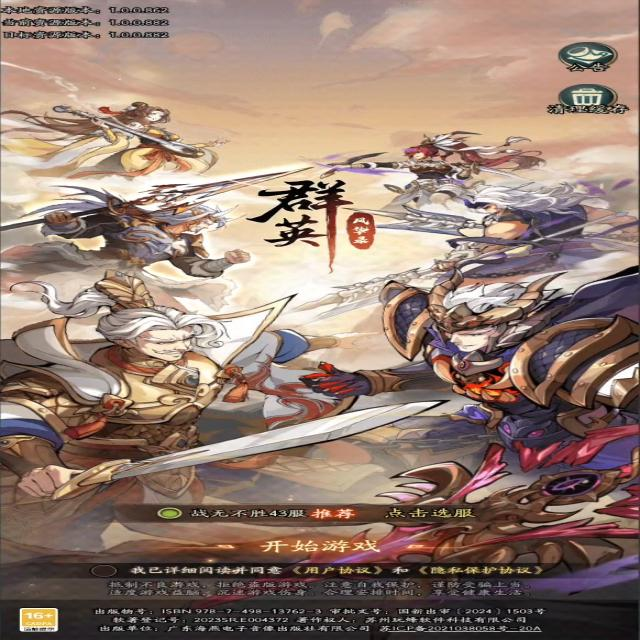operation-enter: (255, 535, 383, 555)
system-cleanUpCache: (552, 84, 632, 116)
system-notices: (558, 41, 619, 73)
system-protocol-box: (133, 564, 287, 578), (83, 561, 127, 581)
